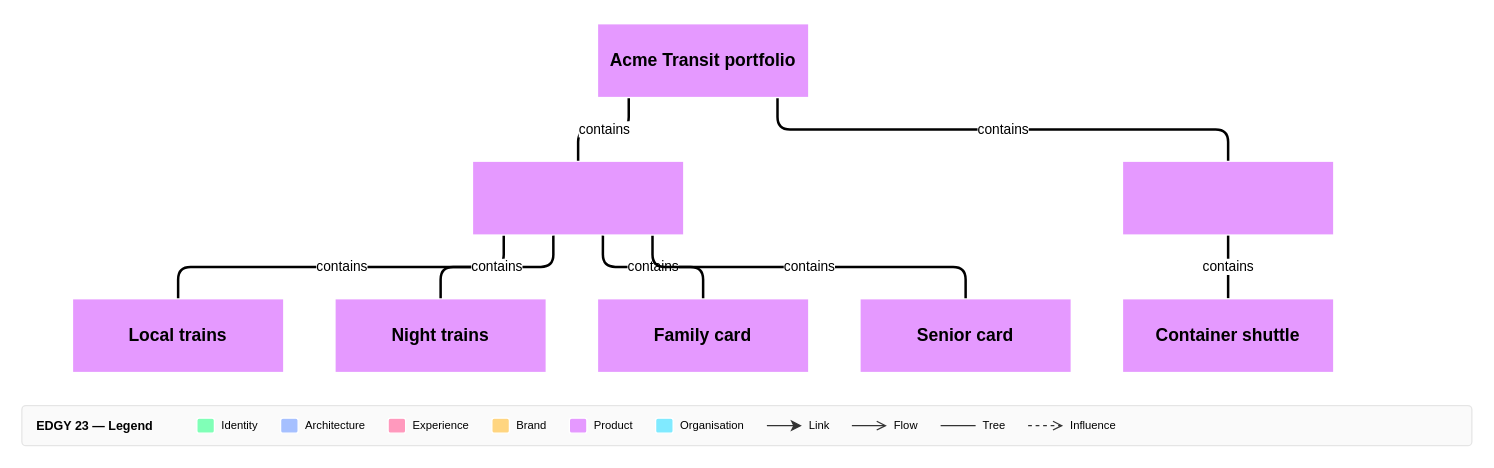
Some shapes in this 1494 by 468 pixel diagram are drawn without their labels. The shapes that lost their labels are listed below. From the top down, each one's centre as x and y in pixels, then its label:
At (x=577, y=197): "Passenger transport".
At (x=1227, y=197): "Freight transport".
